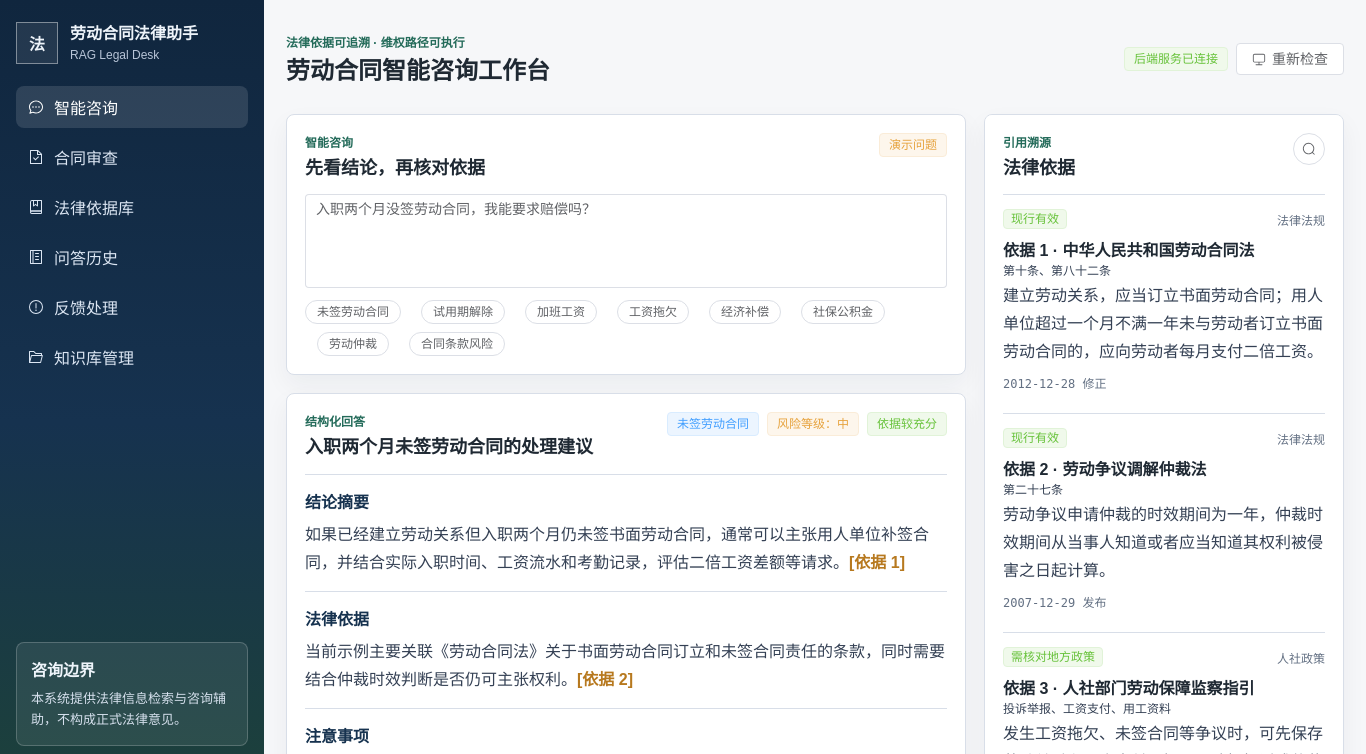
Test: App › opens the real knowledge document management page from the main navigation
The image size is (1366, 754).
Click the button "知识库管理" at [132, 357], box [16,336,248,378]
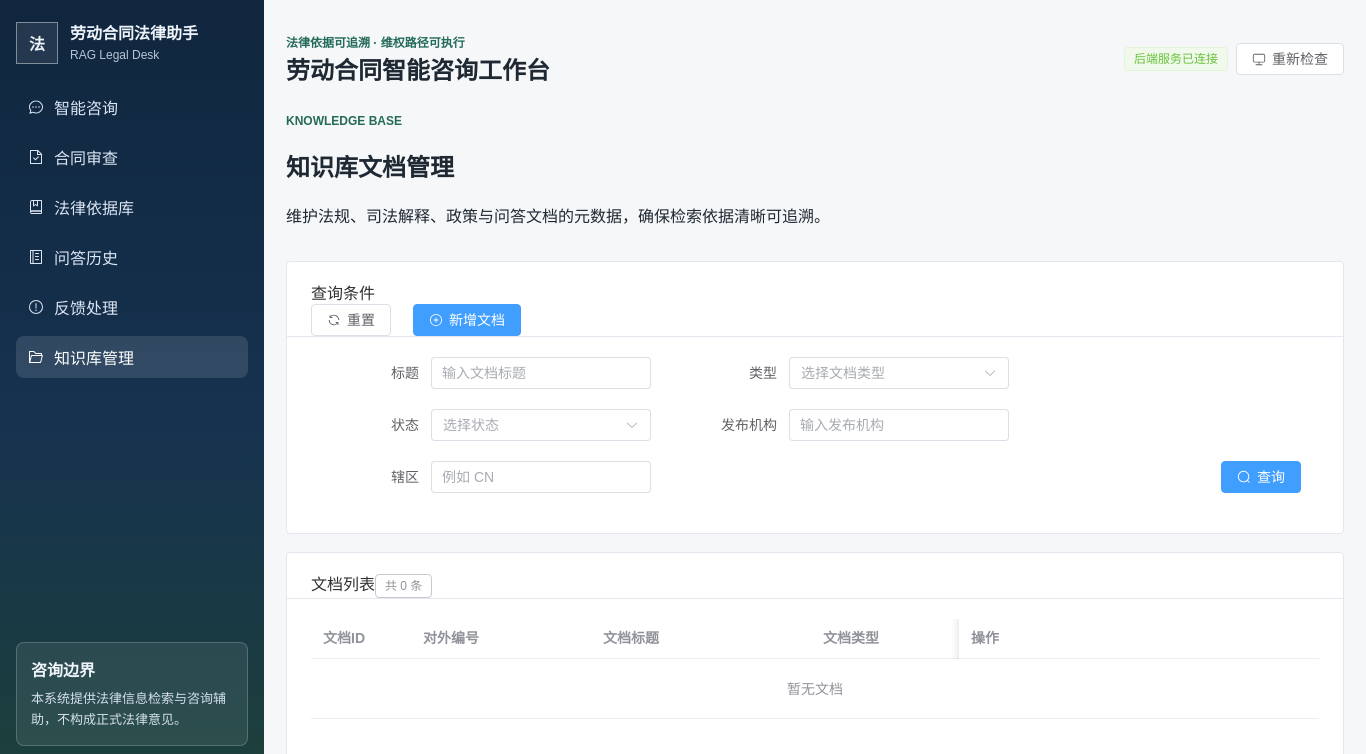
Check: the text "知识库文档管理" is shown, box [286,154,454,181]
Check: the text "新增文档" is shown, box [449,313,505,327]
